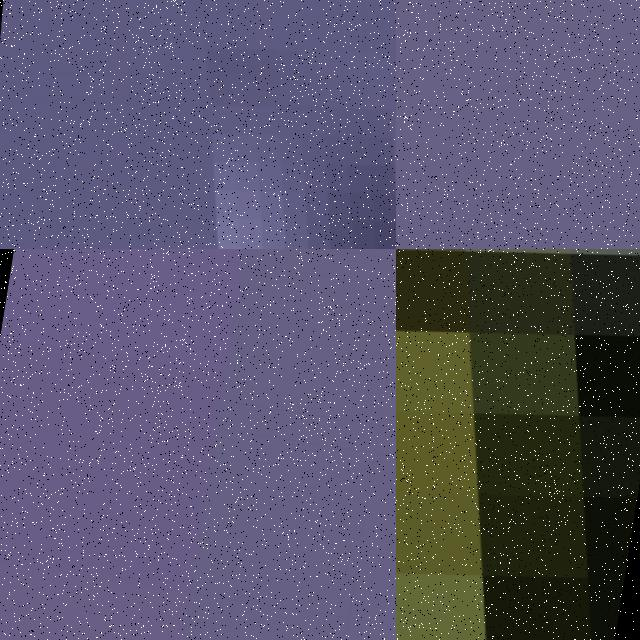drone: (0, 0, 396, 249), (396, 249, 640, 640)
